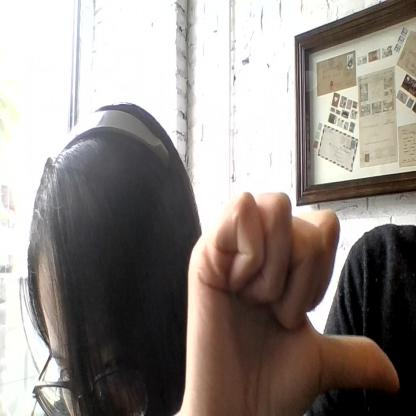left: (177, 192, 398, 416)
